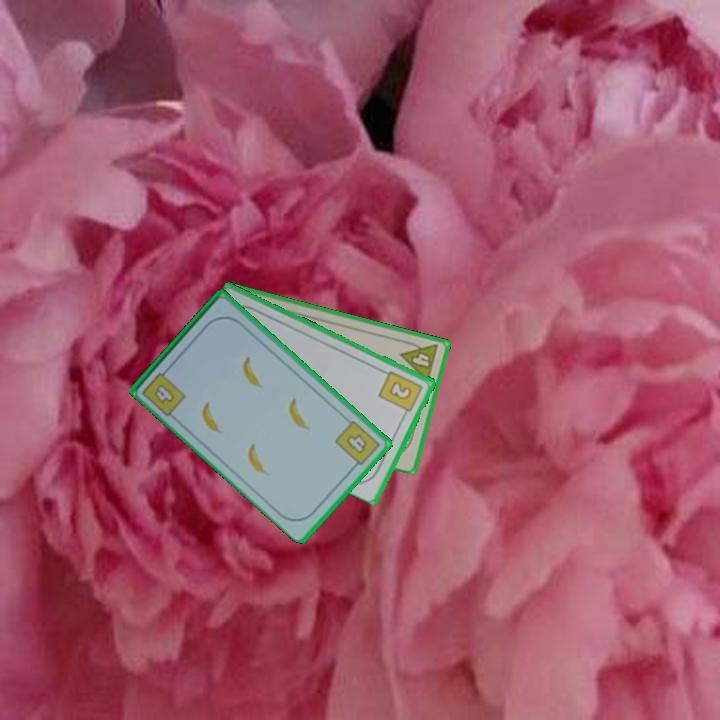2b: (376, 367, 426, 419)
4b: (331, 416, 383, 472), (138, 363, 189, 419)
4p: (397, 336, 442, 385)
